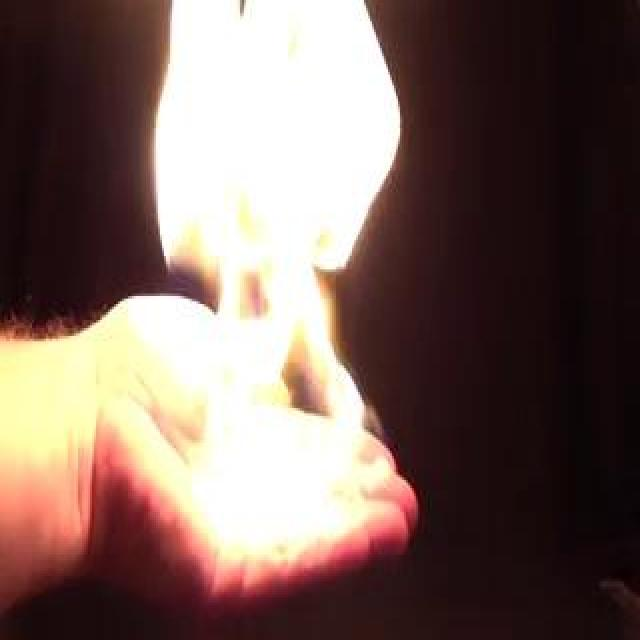Fire: (142, 3, 416, 541)
